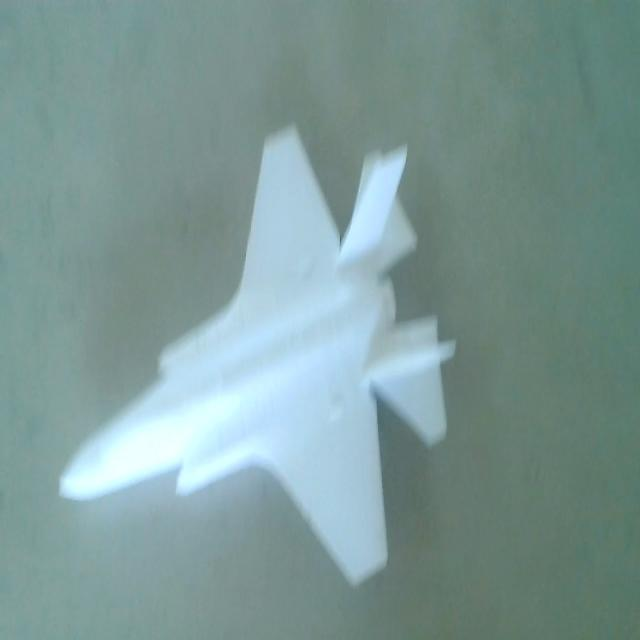Jet: (57, 121, 460, 604)
